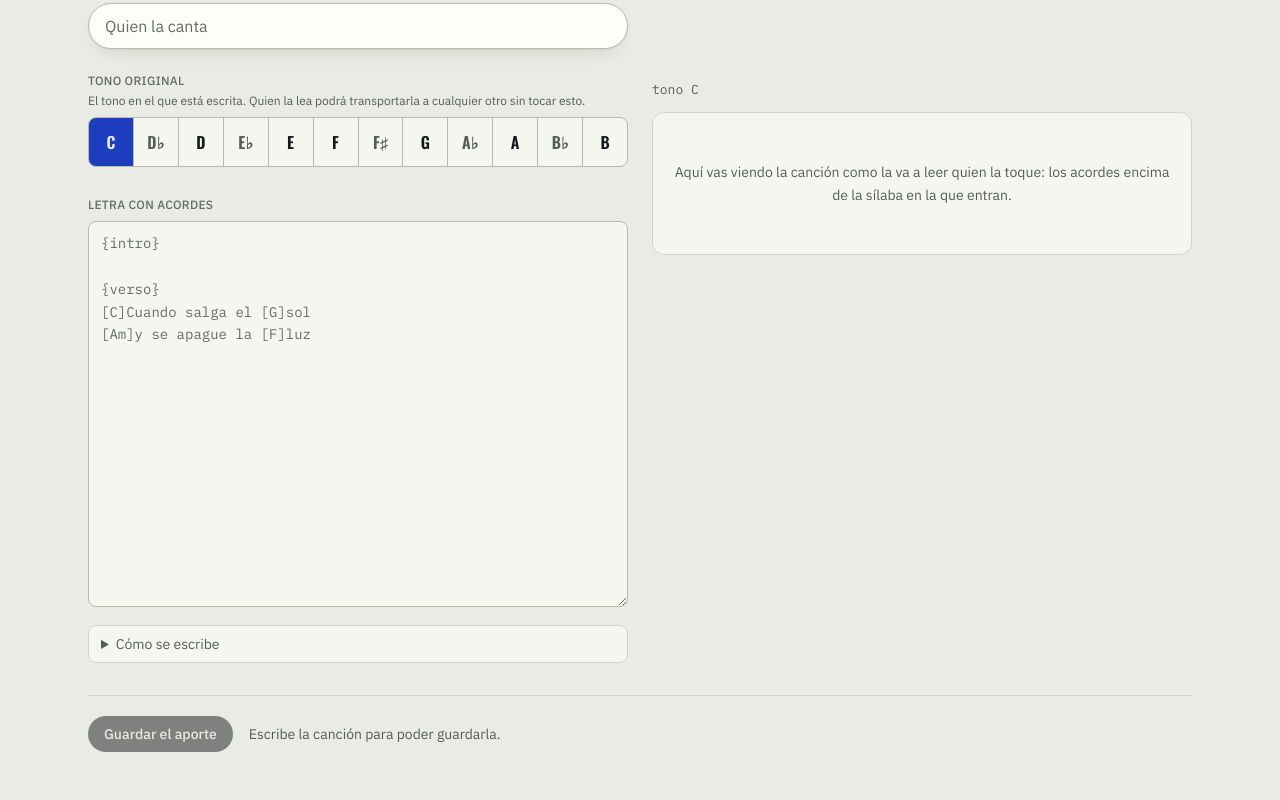
Test: Aportar · canción nueva › RN-010 · avisa del posible duplicado y deja aportar la versión ahí sin perder lo escrito
(page scrolled)
Replace the text in the text box labelled "Letra con acordes" with "[C]Cuando salga el [G]sol" at (358, 414), box x1=88 y1=221 x2=628 y2=607
(page scrolled)
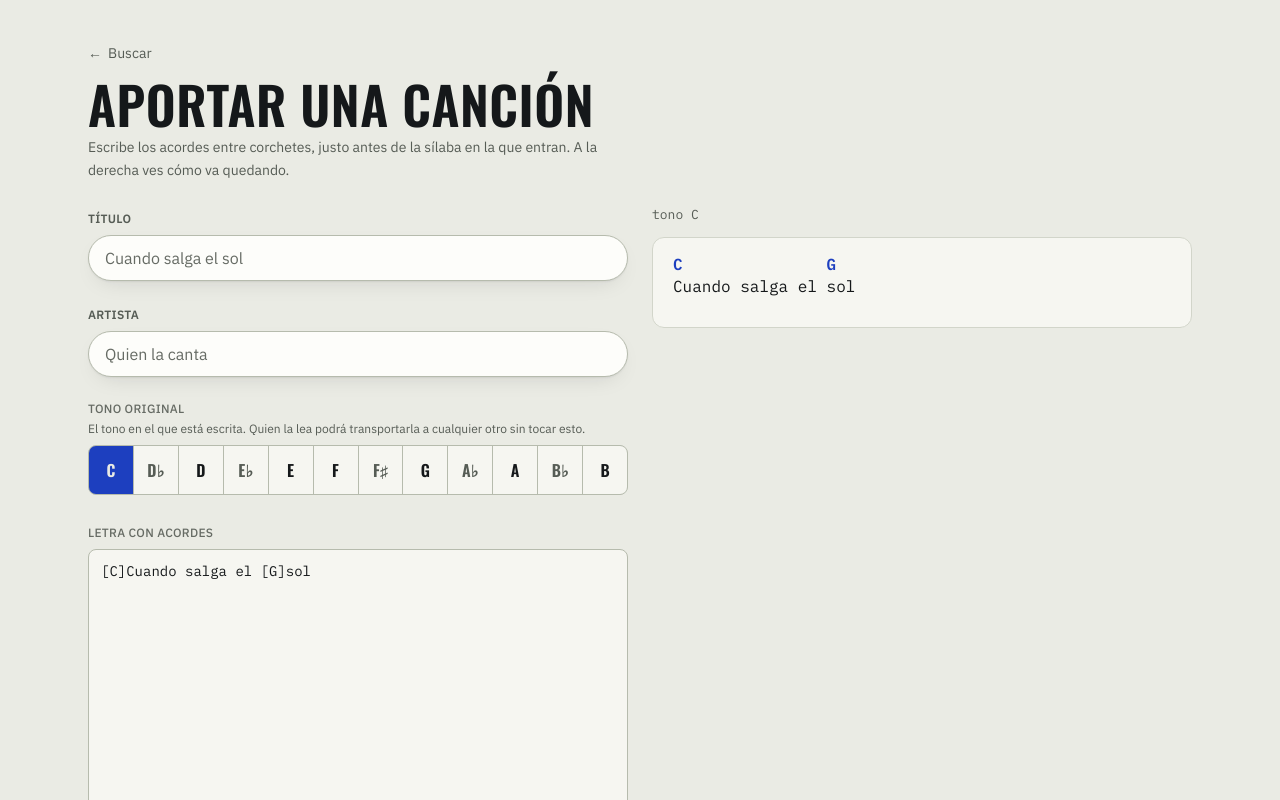
Type "cuando salga el sol" into the field labelled "Título" at (358, 258), box x1=105 y1=246 x2=611 y2=270
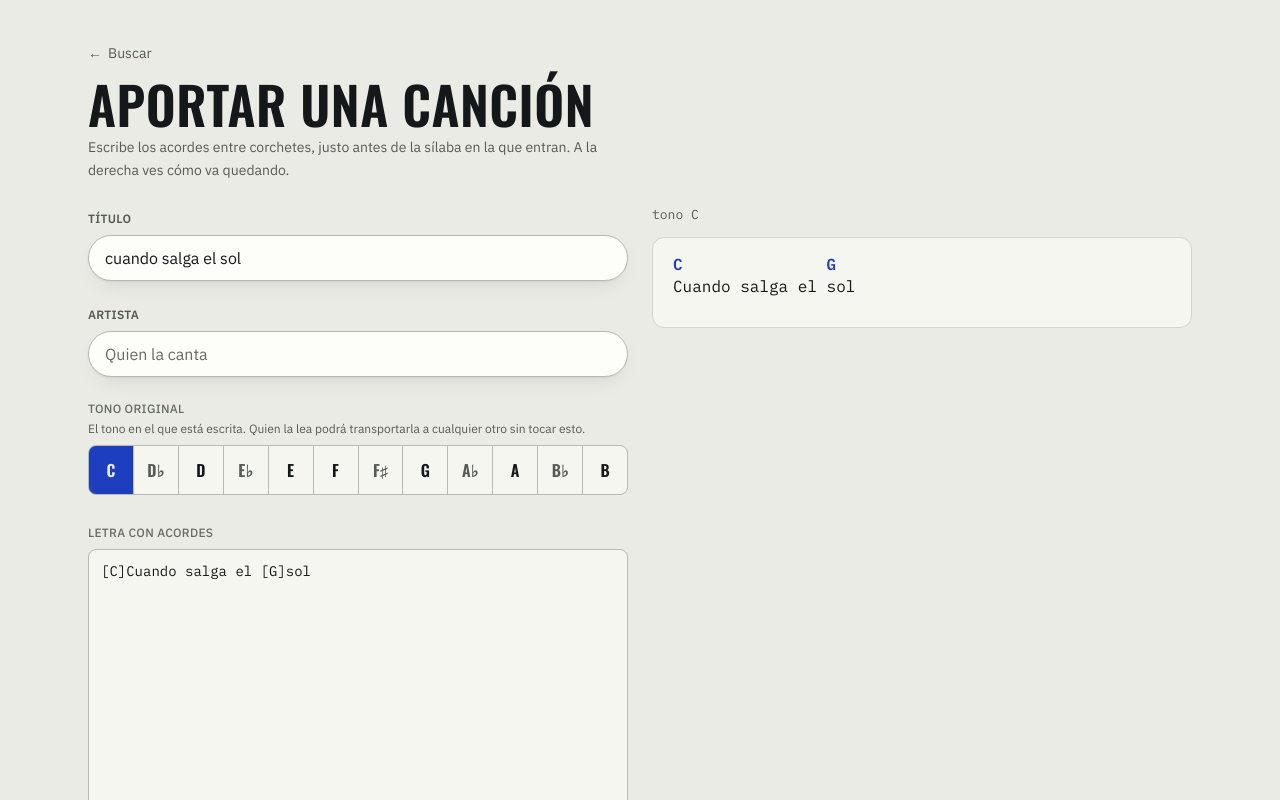
Type "Aksel" into the field labelled "Artista" at (358, 354), box x1=105 y1=342 x2=611 y2=366
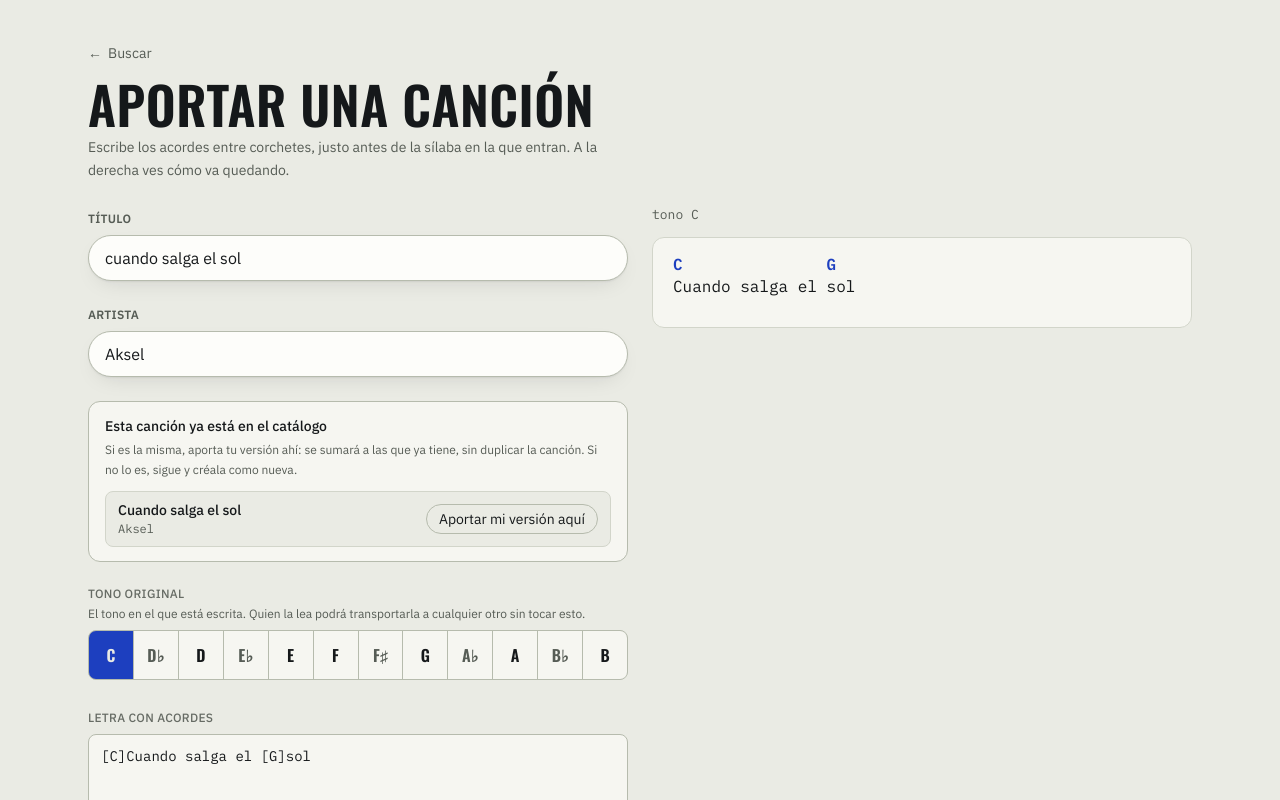
Check: the text "Esta canción ya está en el catálogo" is shown, box x1=105 y1=417 x2=327 y2=435
Click the button "Aportar mi versión aquí" at (512, 519), box x1=426 y1=504 x2=598 y2=534
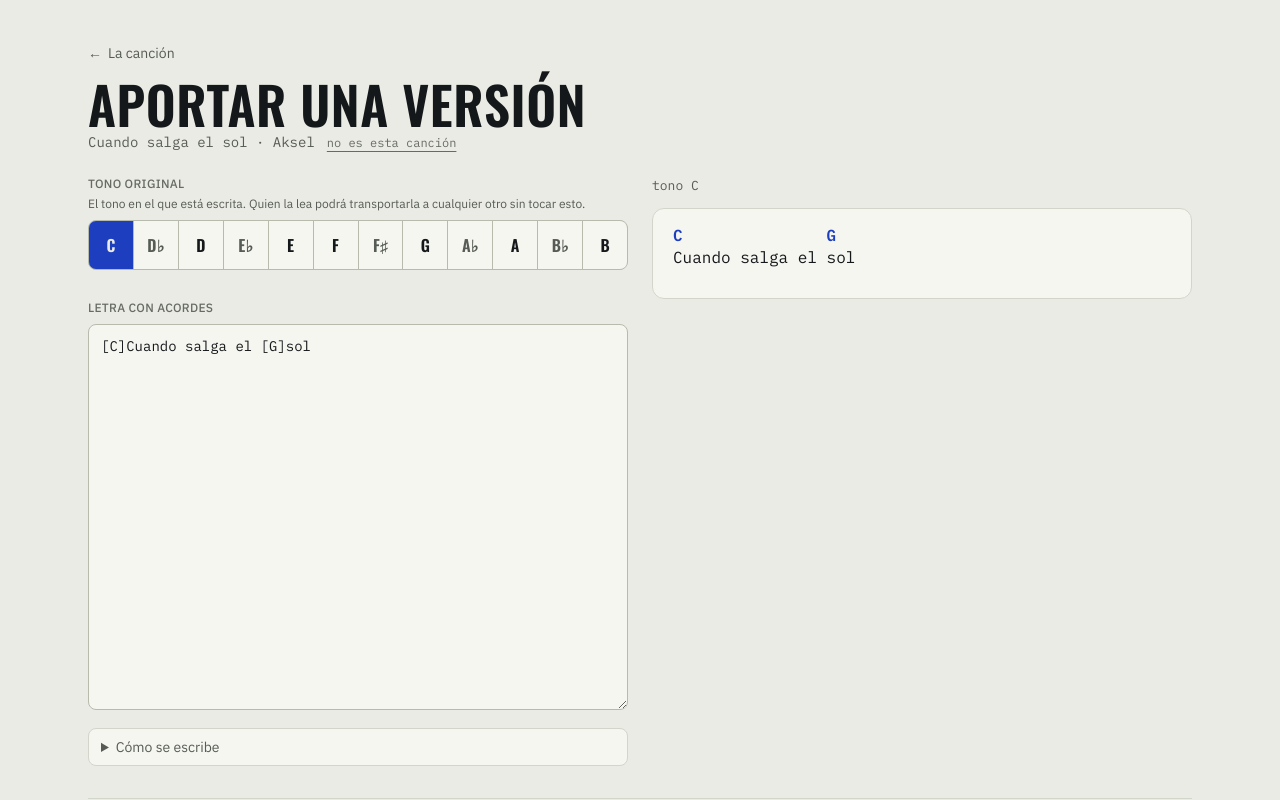
Check: the heading "Aportar una versión" is shown, box x1=88 y1=65 x2=586 y2=142
